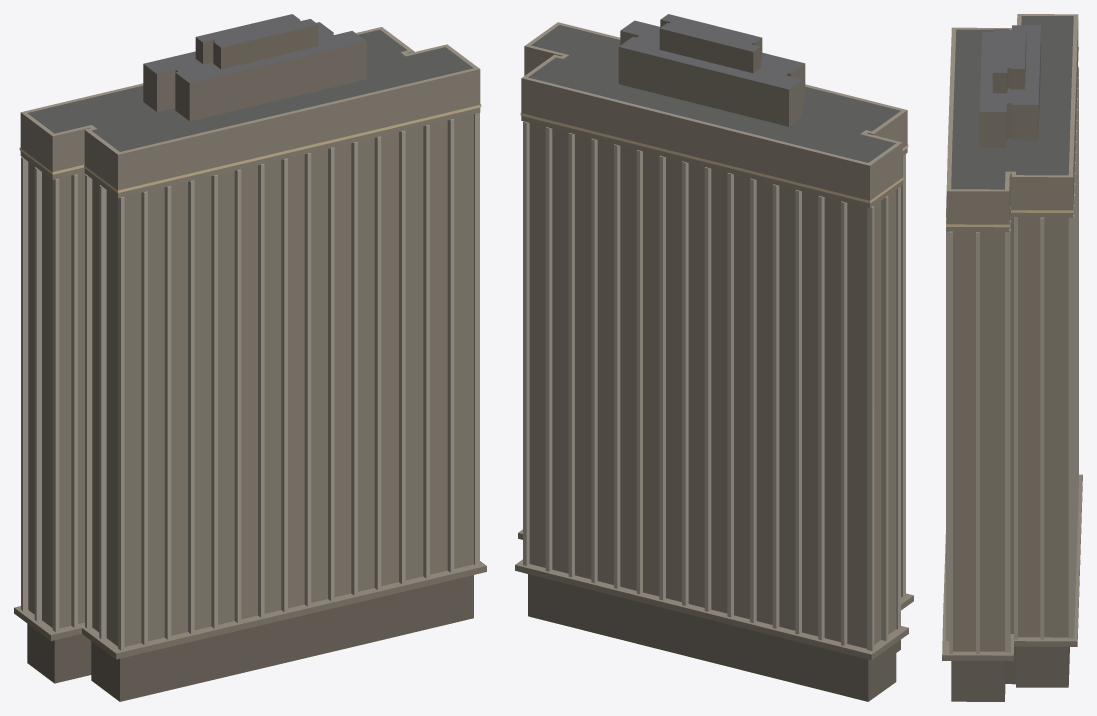
File: peachtree-center-south-tower.glb
3 renders of one model, left to right at view 1: azimuth 30°, elevation 25°; view 2: azimuth 150°, elevation 25°; view 3: azimuth 270°, elevation 25°, orthographic. The views are drawn at different scales.
Parts seen in each view (by area): view 1: lod0_bld_wall, lod0_lm_stone, lod1_lm_stone, lod0_bld_roof, lod0_lm_glow; view 2: lod0_bld_wall, lod0_lm_stone, lod1_lm_stone, lod0_bld_roof, lod0_lm_glow; view 3: lod0_bld_wall, lod1_lm_stone, lod0_lm_stone, lod0_bld_roof, lod0_lm_glow.
Part boxes in pixels (bbox=[...]): lod0_bld_wall: bbox=[27, 20, 473, 701]; lod0_lm_stone: bbox=[20, 69, 480, 659]; lod1_lm_stone: bbox=[14, 22, 486, 659]; lod0_bld_roof: bbox=[196, 14, 317, 47]; lod0_lm_glow: bbox=[19, 104, 481, 192]; lod0_bld_wall: bbox=[528, 19, 900, 701]; lod0_lm_stone: bbox=[515, 54, 913, 650]; lod1_lm_stone: bbox=[515, 20, 913, 660]; lod0_bld_roof: bbox=[660, 14, 761, 51]; lod0_lm_glow: bbox=[520, 113, 908, 203]; lod0_bld_wall: bbox=[951, 32, 1069, 701]; lod1_lm_stone: bbox=[942, 14, 1082, 658]; lod0_lm_stone: bbox=[942, 19, 1079, 661]; lod0_bld_roof: bbox=[992, 25, 1026, 72]; lod0_lm_glow: bbox=[946, 47, 1078, 227].
Bounding box in the file's own units: 76.63 × 112 × 25.14.
